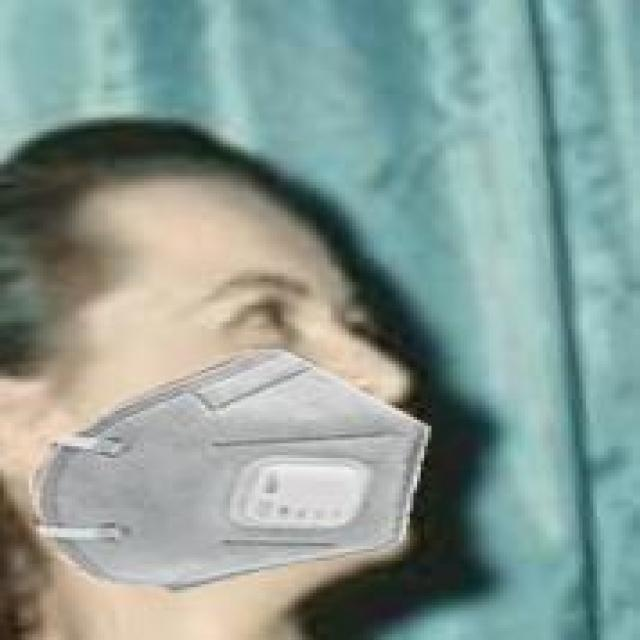mask: (7, 135, 464, 590)
